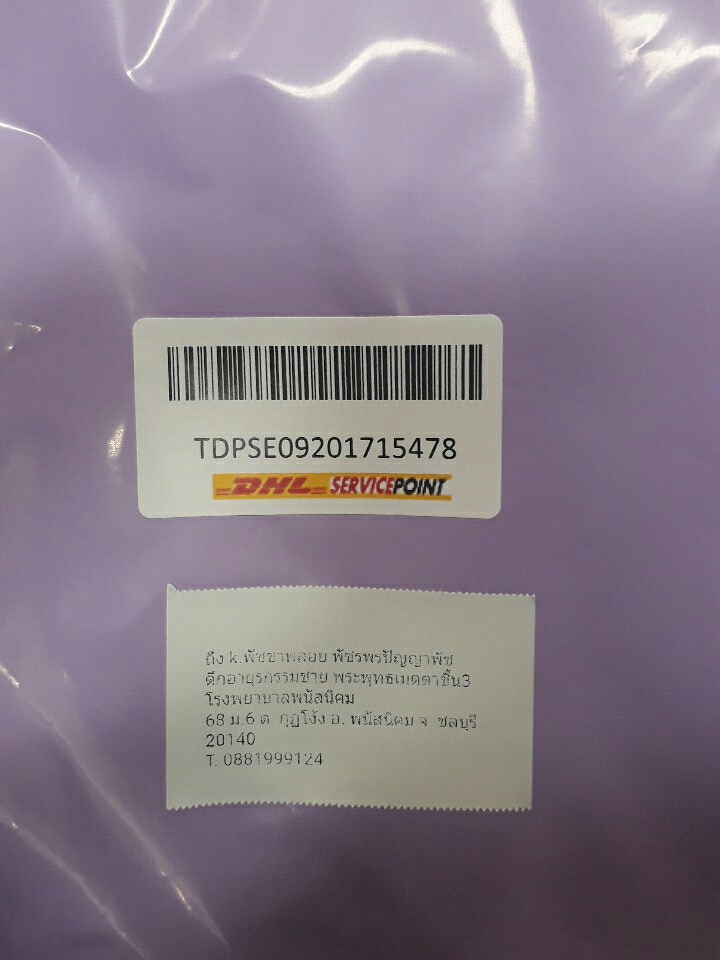ba: (129, 312, 516, 530)
txt: (199, 644, 483, 780)
